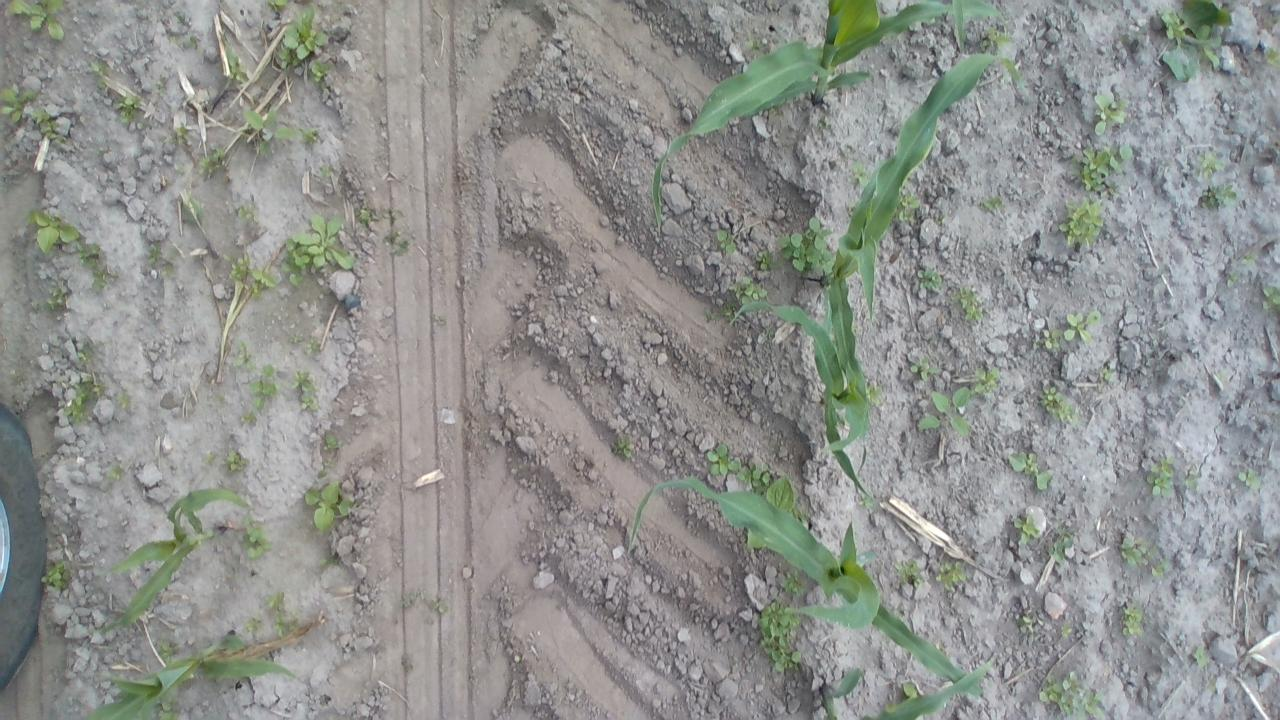Maize: (651, 0, 1010, 238), (820, 54, 1024, 461), (629, 476, 986, 700), (727, 300, 875, 507), (87, 486, 250, 632), (82, 630, 296, 720), (820, 654, 994, 720)
Weeds: (1160, 0, 1232, 82), (280, 214, 354, 286), (755, 598, 804, 674), (776, 216, 836, 275), (1038, 670, 1104, 720), (278, 4, 329, 68), (1070, 144, 1134, 194), (242, 107, 296, 158), (916, 386, 970, 436), (304, 480, 352, 532), (1058, 197, 1104, 250), (766, 473, 812, 525), (8, 0, 66, 41), (26, 209, 78, 254), (64, 376, 104, 423), (1008, 452, 1053, 490), (1093, 91, 1131, 135), (75, 240, 107, 292), (736, 458, 774, 500), (248, 364, 282, 410), (239, 512, 271, 560), (1041, 386, 1078, 424), (0, 87, 38, 122), (950, 284, 983, 322), (31, 106, 65, 142), (1120, 535, 1158, 566), (1145, 457, 1175, 496), (706, 442, 741, 475), (1064, 310, 1100, 342), (730, 276, 768, 304), (40, 558, 72, 591), (934, 560, 968, 591), (977, 25, 1013, 54), (112, 91, 142, 124), (1048, 526, 1074, 564), (224, 41, 248, 82), (1202, 184, 1238, 209), (250, 268, 278, 300), (891, 192, 920, 222), (199, 148, 227, 178), (894, 559, 925, 586), (1120, 602, 1144, 636), (970, 368, 1000, 395), (780, 570, 810, 596), (1194, 152, 1224, 178), (1013, 514, 1039, 543), (909, 357, 940, 380), (233, 340, 256, 371), (1032, 328, 1064, 350), (154, 639, 180, 666), (310, 59, 334, 88), (155, 693, 180, 720), (849, 160, 873, 188), (227, 254, 251, 280), (274, 610, 296, 638), (222, 449, 247, 473), (754, 248, 781, 270), (292, 369, 316, 393), (916, 267, 942, 289), (235, 202, 261, 224), (184, 195, 204, 223), (384, 231, 408, 254), (45, 286, 68, 309), (714, 229, 736, 253), (1261, 285, 1280, 311), (718, 300, 740, 322), (744, 34, 766, 56), (352, 204, 374, 226), (168, 124, 189, 146), (1239, 468, 1260, 489), (864, 384, 884, 406), (264, 590, 286, 610), (1192, 644, 1210, 668), (145, 240, 162, 265), (243, 614, 264, 634), (980, 195, 1004, 212), (76, 344, 96, 364), (901, 680, 921, 700), (611, 439, 633, 457), (298, 126, 318, 144), (1150, 558, 1168, 578), (323, 433, 341, 452), (300, 394, 320, 411), (318, 550, 339, 566), (105, 463, 124, 479), (1017, 614, 1033, 633), (317, 460, 333, 478), (238, 410, 258, 424), (90, 60, 107, 76), (1098, 366, 1115, 382), (1186, 472, 1202, 489), (1266, 50, 1280, 68), (858, 494, 874, 509), (431, 600, 448, 614), (118, 393, 132, 410), (306, 338, 319, 356), (266, 0, 287, 10), (846, 199, 858, 216), (320, 164, 334, 178), (1060, 623, 1074, 637), (288, 334, 307, 344), (1242, 252, 1257, 264), (1226, 274, 1238, 288), (174, 164, 186, 176), (162, 264, 174, 276), (9, 369, 22, 379), (96, 79, 108, 89), (204, 454, 217, 463), (704, 310, 715, 320), (222, 253, 234, 262), (168, 35, 180, 44), (766, 327, 774, 340), (185, 34, 195, 44), (1000, 74, 1012, 82), (936, 214, 945, 224), (768, 107, 776, 114)
